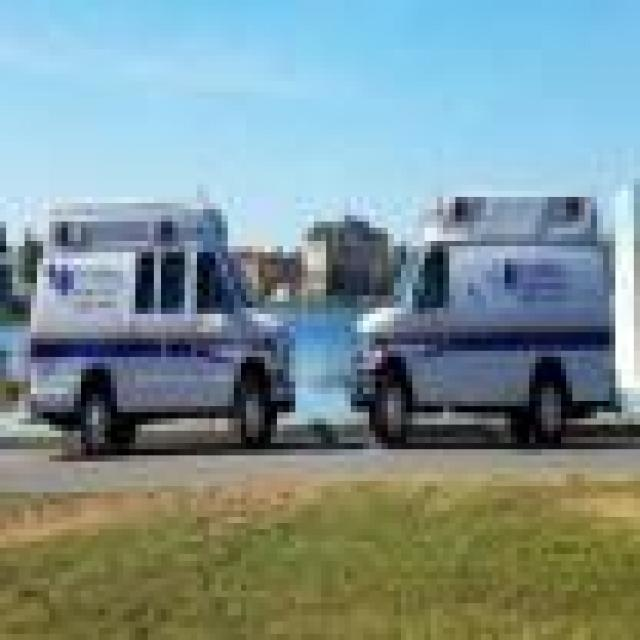emergency-vehicle: (350, 184, 622, 443), (28, 200, 298, 452)
